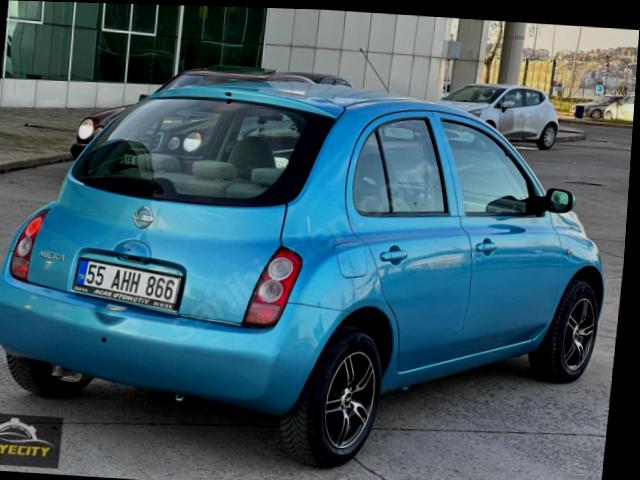plaka: (72, 259, 183, 311)
